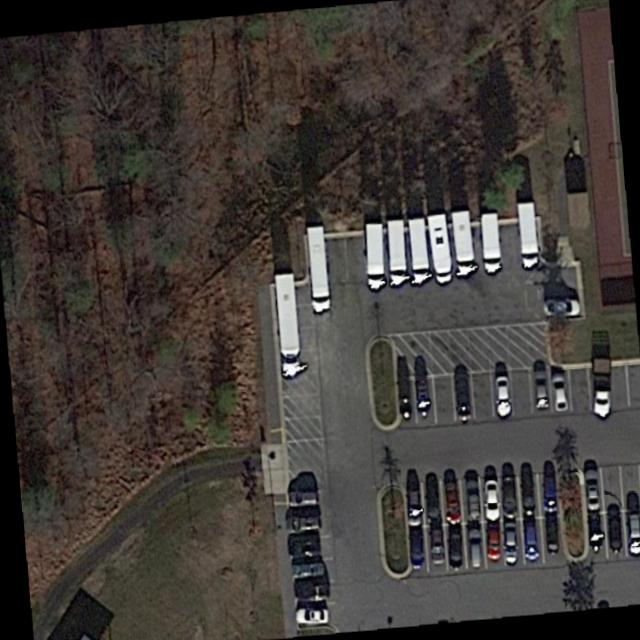large-vehicle: (270, 271, 301, 377), (301, 222, 328, 313), (512, 198, 540, 267), (424, 213, 451, 283), (384, 214, 409, 287), (449, 206, 475, 275), (405, 218, 430, 285), (363, 222, 383, 289), (480, 209, 500, 272)
small-vehicle: (590, 357, 613, 417), (449, 373, 475, 423), (489, 371, 513, 419), (547, 371, 571, 415), (603, 505, 625, 552), (394, 375, 417, 419), (584, 510, 606, 554), (413, 374, 435, 418), (520, 517, 541, 563), (540, 295, 581, 318), (530, 368, 552, 410), (541, 515, 564, 555), (583, 465, 602, 513), (463, 526, 484, 567), (441, 478, 459, 524), (538, 473, 559, 512), (288, 558, 325, 579), (624, 508, 640, 556), (424, 527, 445, 563), (423, 483, 441, 525), (501, 522, 519, 563), (285, 512, 320, 533), (406, 527, 423, 570), (480, 477, 497, 520), (287, 538, 321, 559), (501, 475, 518, 517), (292, 582, 329, 601), (462, 480, 479, 520), (519, 475, 536, 514), (484, 524, 501, 562), (404, 488, 421, 525), (292, 606, 328, 623), (445, 531, 461, 568), (286, 489, 318, 506)
